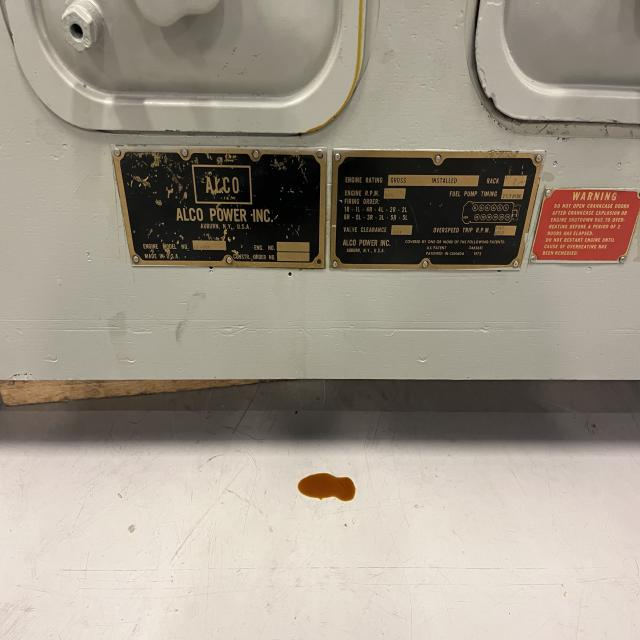Oil Leak: (306, 0, 366, 132), (298, 473, 355, 501)
